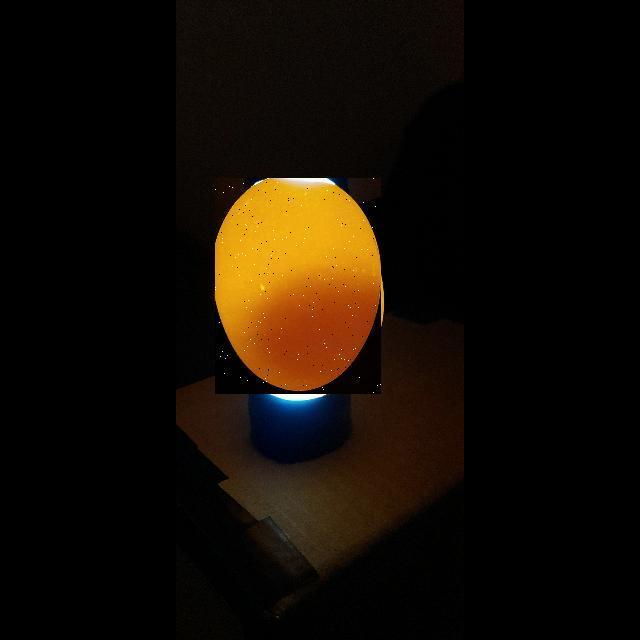Inedible: (214, 183, 382, 393)
